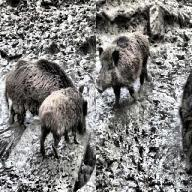boar: (95, 31, 151, 107), (178, 65, 191, 175)
